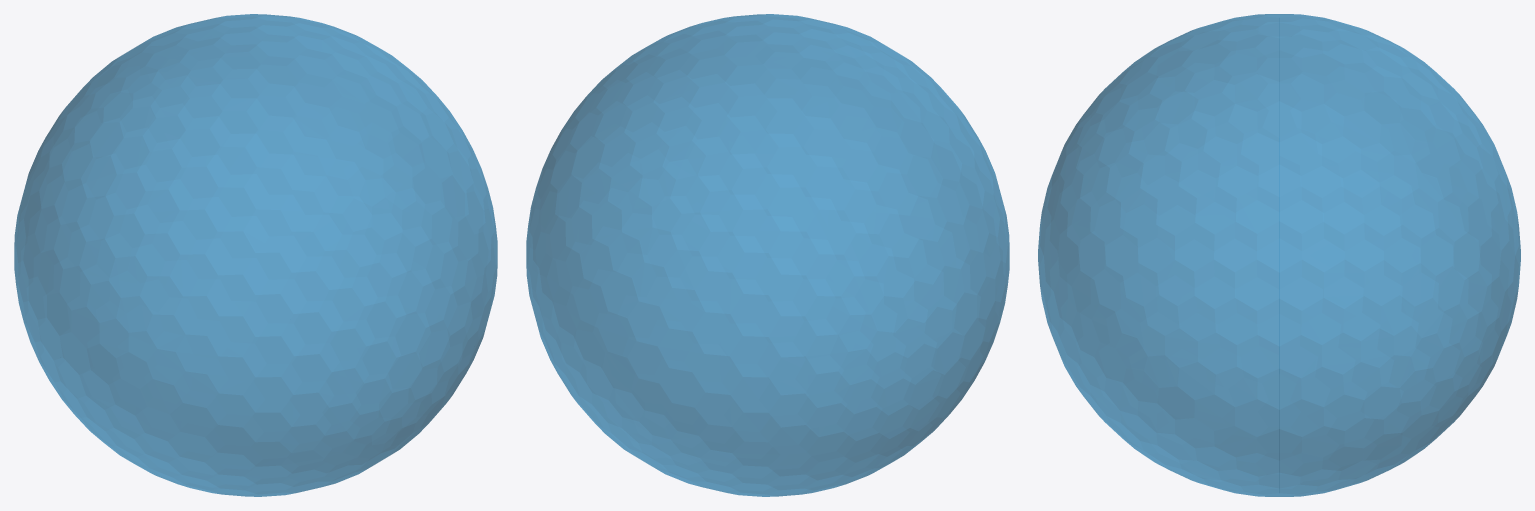
File: Hex.fbx
The picture shows the model from 3 angles, left to right: view 1: azimuth 30°, elevation 25°; view 2: azimuth 150°, elevation 25°; view 3: azimuth 270°, elevation 25°; orthographic projection.
Parts seen in each view (by area): view 1: Sphere_6; view 2: Sphere_6; view 3: Sphere_6.
Part boxes in pixels (x1=…): Sphere_6: x1=14, y1=14, x2=497, y2=496; Sphere_6: x1=526, y1=14, x2=1009, y2=496; Sphere_6: x1=1038, y1=14, x2=1520, y2=496.
Size of the model in its own units: 199 by 199 by 199.
